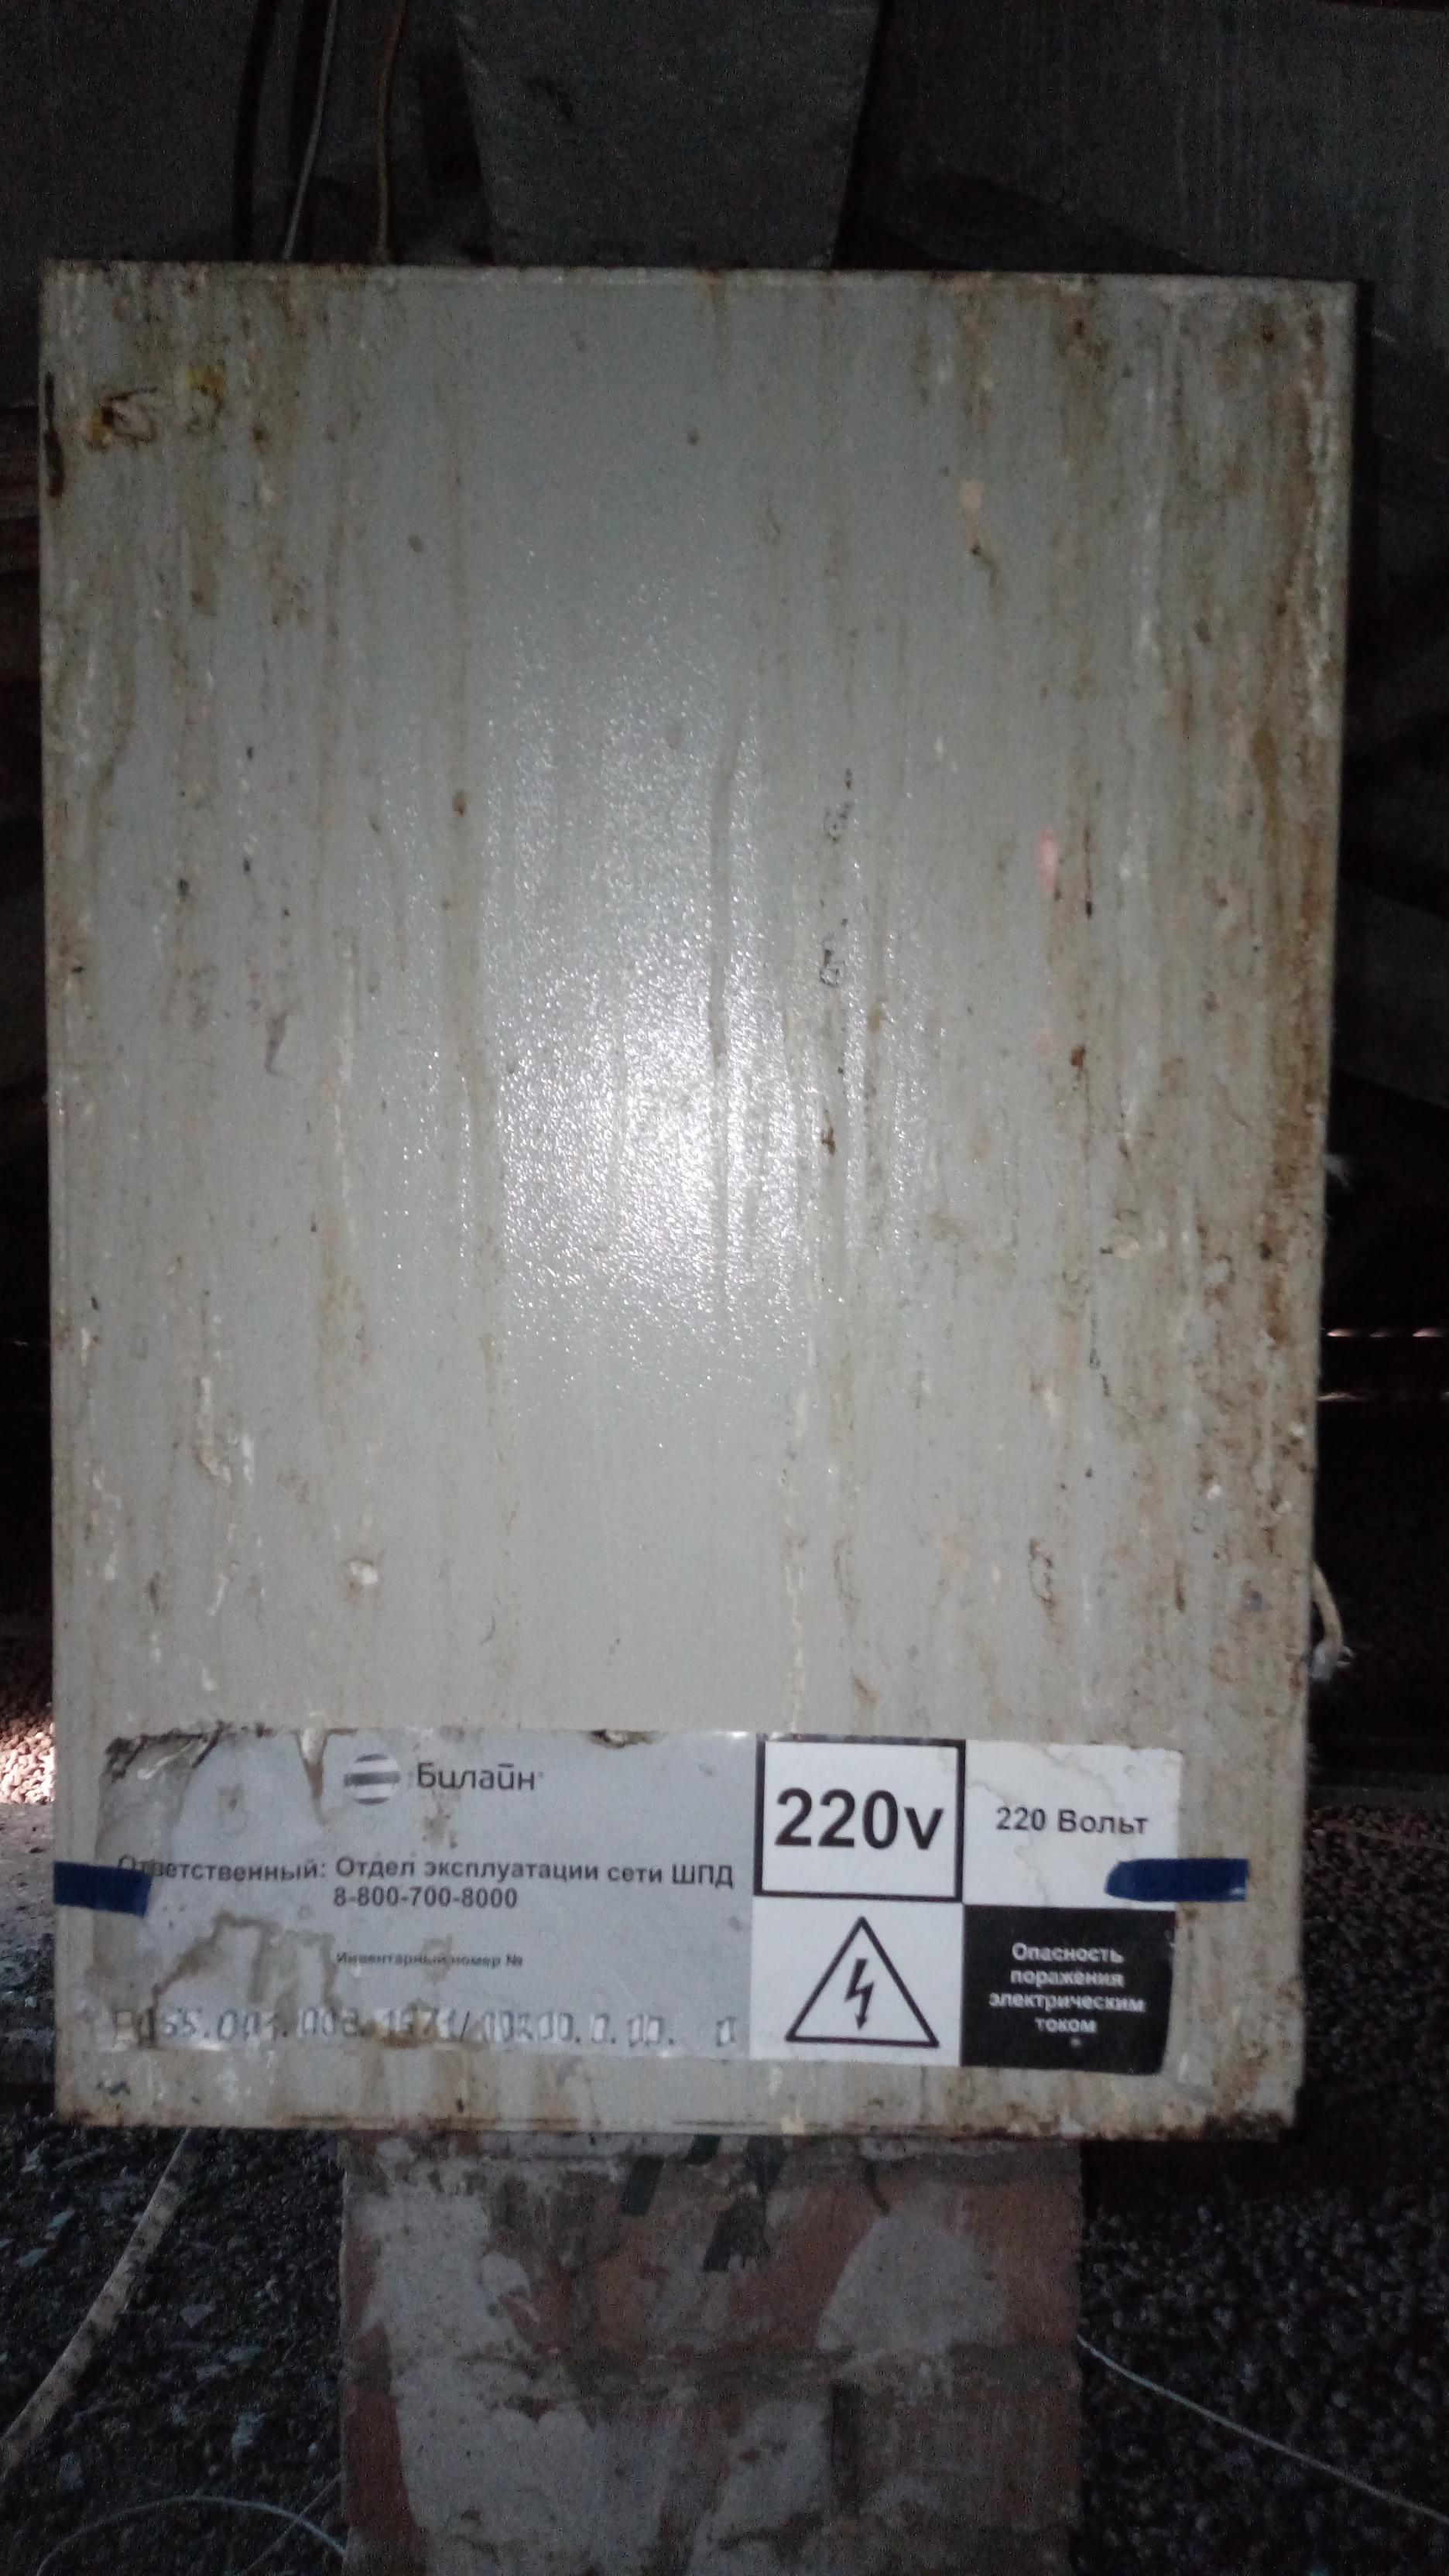sv-5: (14, 228, 1368, 2167)
